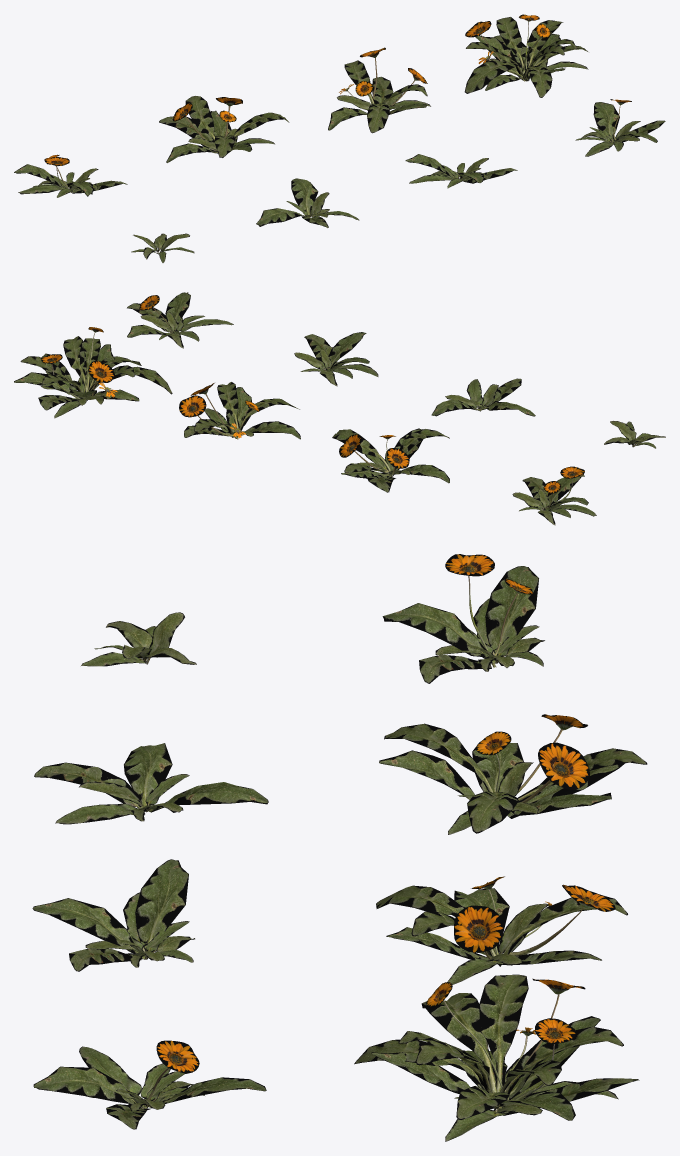
The model's file is flower_gazania.gltf.
3 renders of one model, top to bottom at view 1: azimuth 30°, elevation 25°; view 2: azimuth 150°, elevation 25°; view 3: azimuth 270°, elevation 25°, orthographic. The views are drawn at different scales.
Visible parts, largest first — view 1: flower_gazania_h_LOD0, flower_gazania_f_LOD0, flower_gazania_g_LOD0, flower_gazania_d_LOD0, flower_gazania_b_LOD0, flower_gazania_e_LOD0, flower_gazania_c_LOD0, flower_gazania_a_LOD0; view 2: flower_gazania_h_LOD0, flower_gazania_g_LOD0, flower_gazania_f_LOD0, flower_gazania_d_LOD0, flower_gazania_e_LOD0, flower_gazania_c_LOD0, flower_gazania_b_LOD0, flower_gazania_a_LOD0; view 3: flower_gazania_h_LOD0, flower_gazania_f_LOD0, flower_gazania_g_LOD0, flower_gazania_e_LOD0, flower_gazania_c_LOD0, flower_gazania_d_LOD0, flower_gazania_b_LOD0, flower_gazania_a_LOD0.
Boxes of the visible parts, x1,y1,x2,y2 form: flower_gazania_h_LOD0: (464,14,588,97); flower_gazania_f_LOD0: (159,96,289,162); flower_gazania_g_LOD0: (328,47,430,133); flower_gazania_d_LOD0: (575,99,665,156); flower_gazania_b_LOD0: (256,178,359,227); flower_gazania_e_LOD0: (14,154,127,197); flower_gazania_c_LOD0: (405,154,517,188); flower_gazania_a_LOD0: (131,233,194,262); flower_gazania_h_LOD0: (14,327,172,418); flower_gazania_g_LOD0: (179,382,300,439); flower_gazania_f_LOD0: (332,428,449,492); flower_gazania_d_LOD0: (127,292,233,348); flower_gazania_e_LOD0: (512,466,596,525); flower_gazania_c_LOD0: (294,332,378,386); flower_gazania_b_LOD0: (431,378,535,416); flower_gazania_a_LOD0: (604,421,665,448); flower_gazania_h_LOD0: (354,974,639,1141); flower_gazania_f_LOD0: (379,714,647,834); flower_gazania_g_LOD0: (376,876,627,984); flower_gazania_e_LOD0: (382,554,544,683); flower_gazania_c_LOD0: (32,859,194,971); flower_gazania_d_LOD0: (33,1040,266,1129); flower_gazania_b_LOD0: (34,743,268,824); flower_gazania_a_LOD0: (81,612,196,666).
Bounding box in the file's own units: 1.48 × 0.1655 × 0.7028.
1 material, 1 textured.
